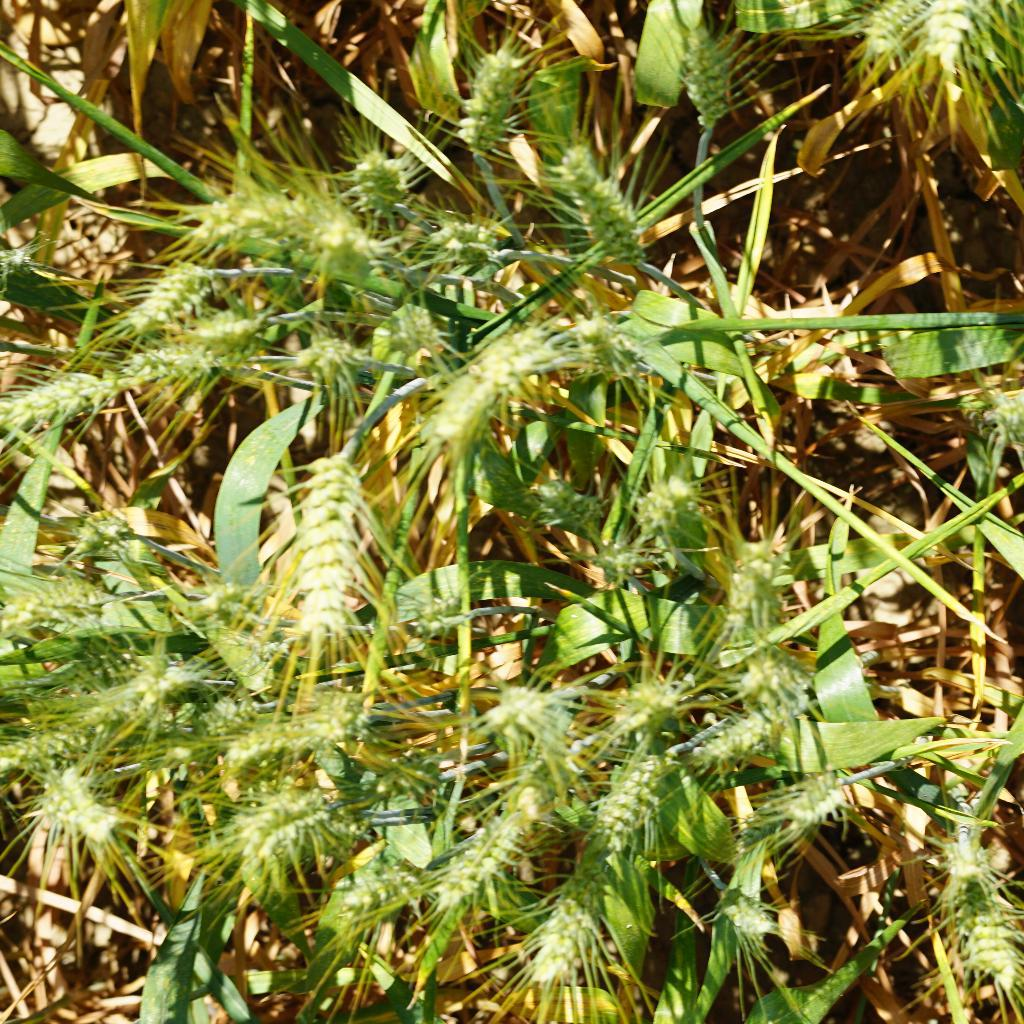0-0: (266, 437, 372, 661), (535, 139, 657, 254), (168, 160, 321, 242), (219, 785, 354, 877), (418, 787, 523, 904), (0, 358, 152, 436), (519, 858, 609, 989), (944, 855, 1024, 1002), (434, 34, 524, 164), (666, 26, 750, 149), (583, 739, 687, 837), (452, 290, 555, 388), (212, 703, 357, 770), (133, 305, 279, 369), (120, 246, 220, 339), (748, 762, 875, 834), (400, 373, 507, 453), (683, 705, 784, 784), (395, 215, 507, 284), (325, 848, 421, 926), (3, 710, 134, 762), (190, 572, 287, 642), (703, 879, 791, 956), (716, 646, 829, 705), (0, 568, 118, 624), (710, 545, 778, 642), (485, 681, 568, 754), (557, 301, 635, 378), (509, 470, 604, 533), (363, 295, 443, 367), (44, 765, 116, 844), (606, 660, 683, 731), (340, 149, 425, 212), (294, 208, 362, 286), (579, 523, 651, 595), (131, 635, 215, 695), (400, 590, 468, 658), (301, 339, 369, 406), (915, 0, 975, 75), (52, 507, 137, 557), (627, 482, 688, 550), (0, 242, 64, 305), (854, 0, 909, 59)
